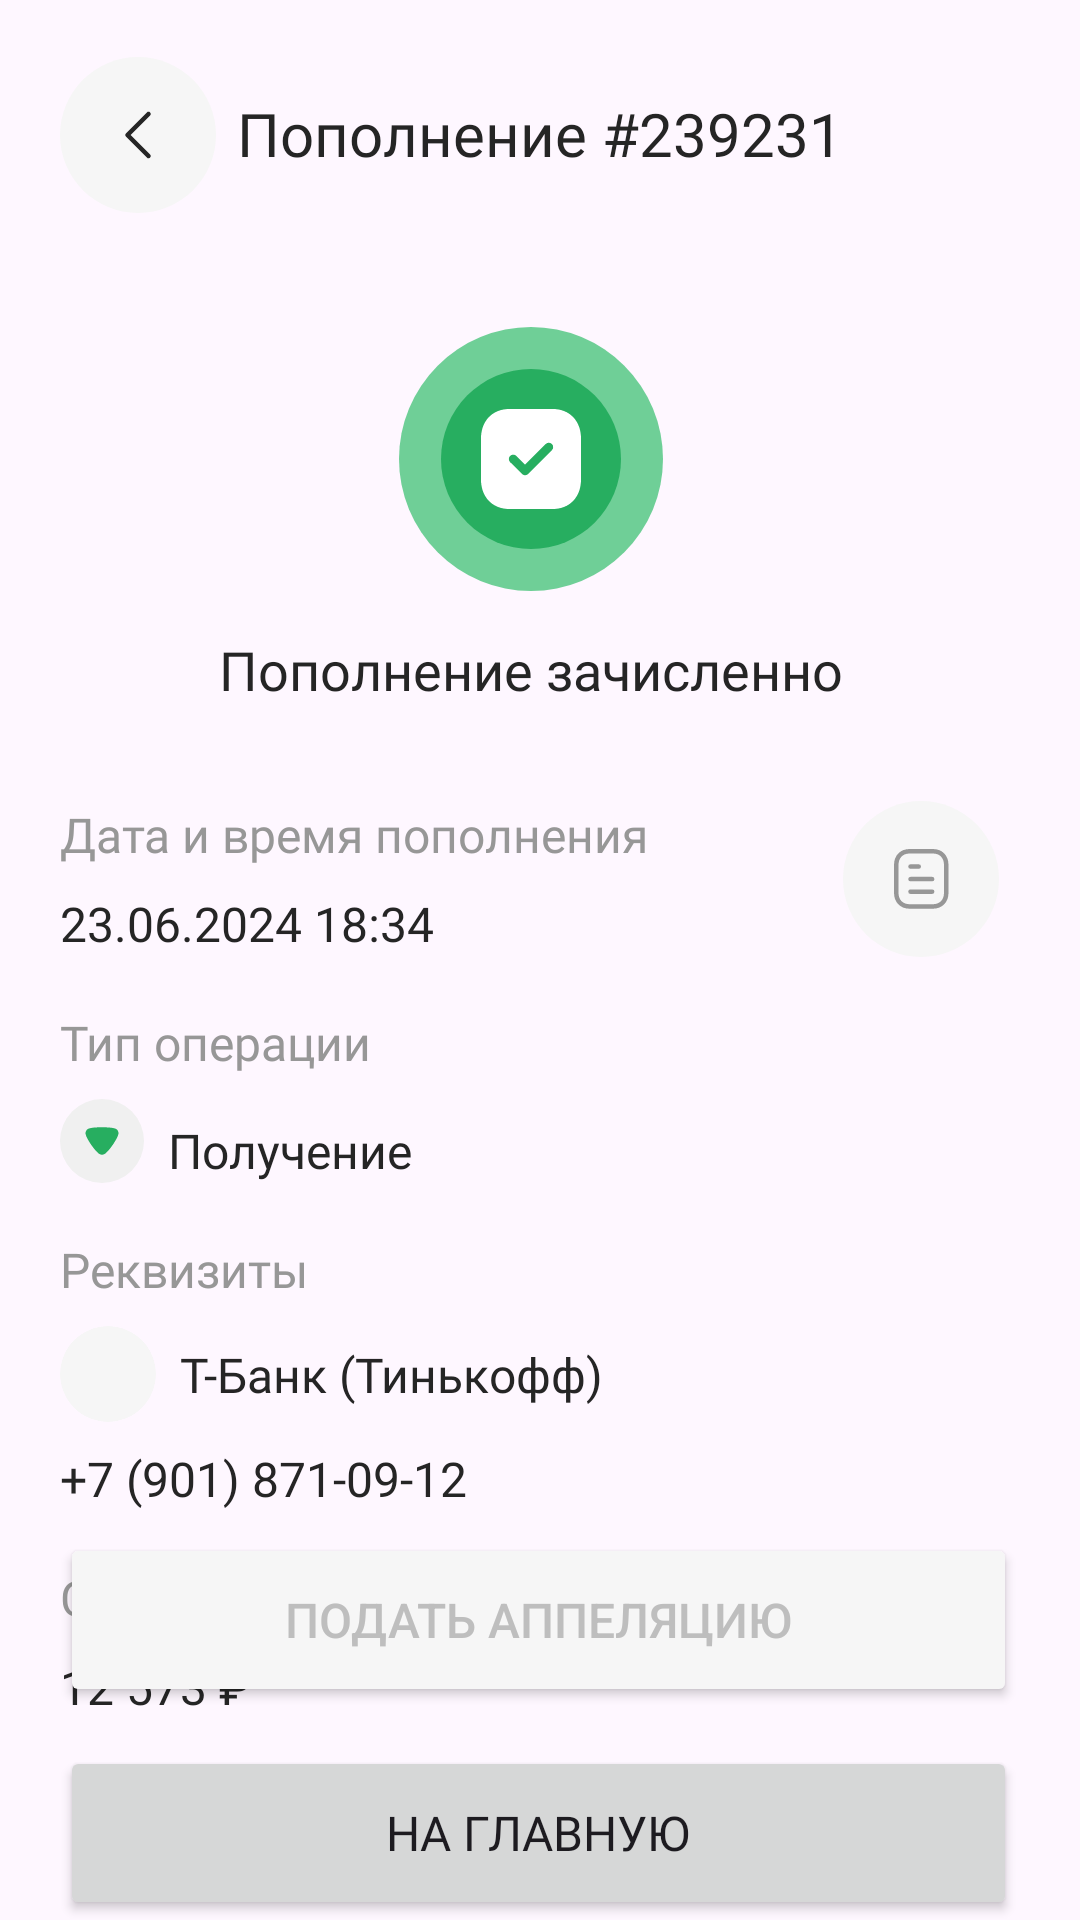

Named icons in this screenshot (1080 x 1920) and their centers, (x=x, y=y):
listinfo: (x=921, y=879)
